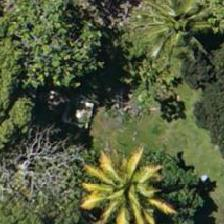coconut_tree: (91, 132, 181, 222)
